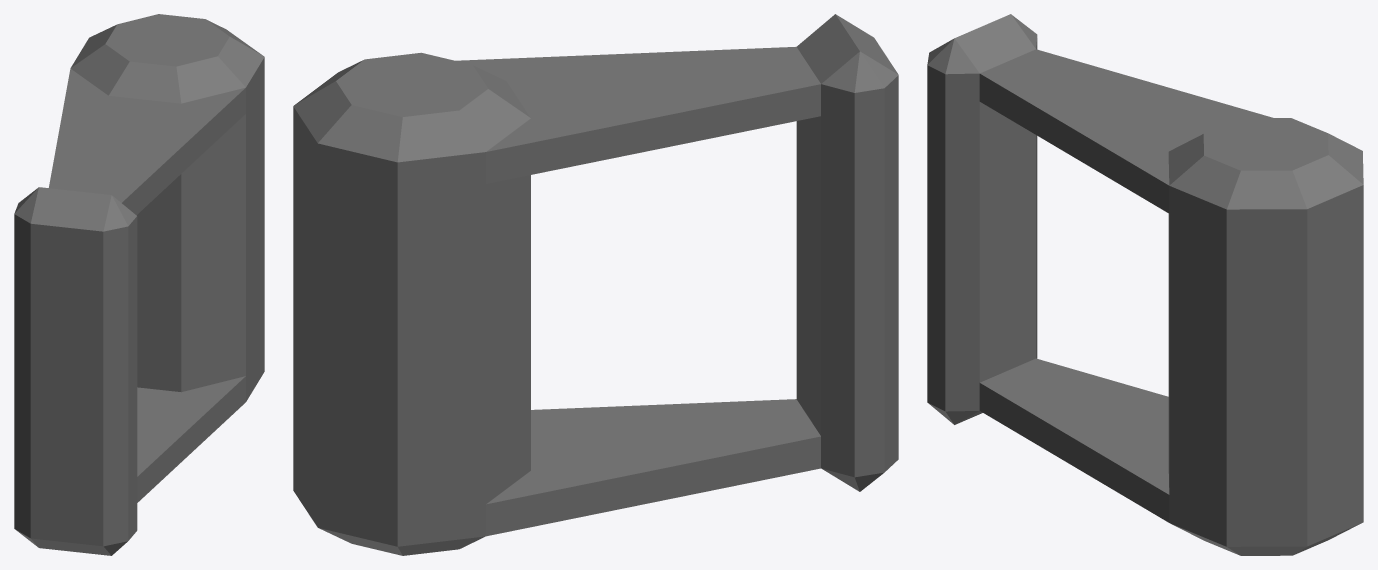
The model's file is Throttle.glb.
The picture shows the model from 3 angles, left to right: view 1: azimuth 30°, elevation 25°; view 2: azimuth 150°, elevation 25°; view 3: azimuth 270°, elevation 25°; orthographic projection. The views are drawn at different scales.
Visible parts, largest first — view 1: Throttle; view 2: Throttle; view 3: Throttle.
Part boxes in pixels (box(x1,y1,x2,y2)): Throttle: box(14, 14, 264, 555); Throttle: box(293, 14, 898, 555); Throttle: box(927, 14, 1363, 555).
Bounding box in the file's own units: 0.1392 × 0.1376 × 0.1407.
Materials: 1 (1 with a texture image).
